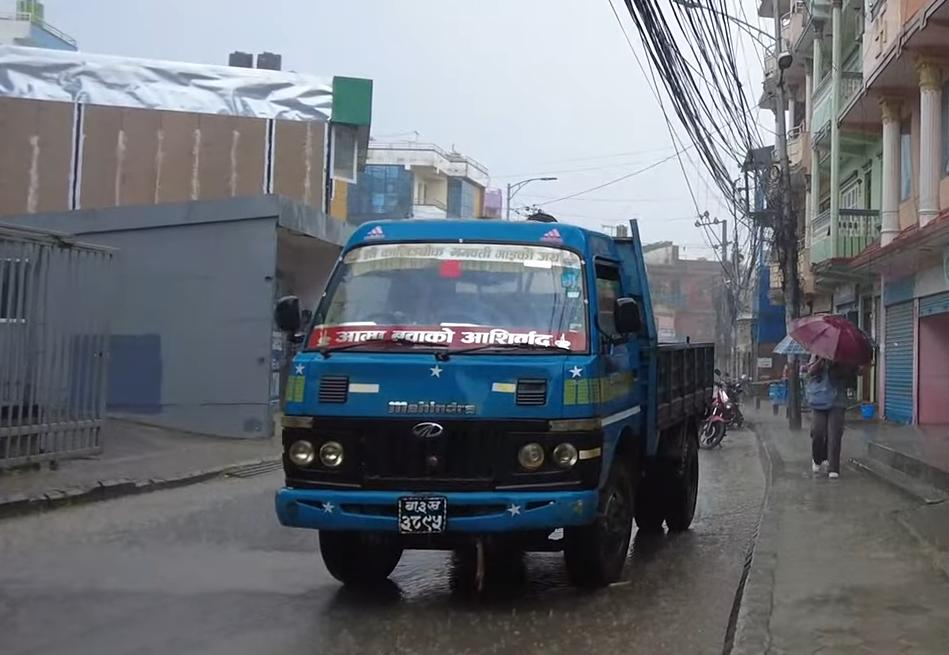bike: (702, 375, 747, 458)
mini_truck: (283, 213, 709, 606)
